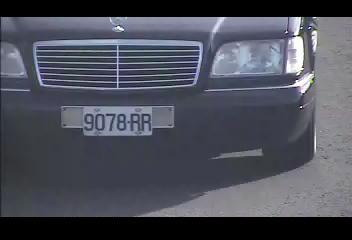plate: (80, 105, 153, 137)
